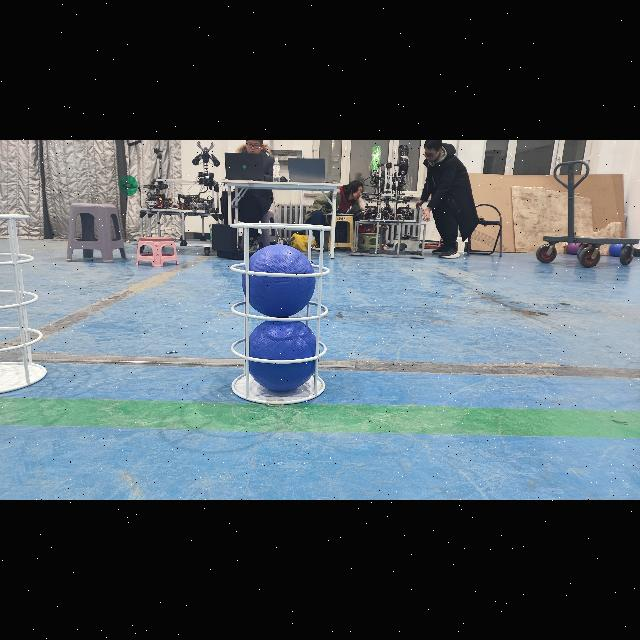B: (244, 317, 320, 391), (242, 244, 316, 318)
S: (227, 220, 339, 408)
